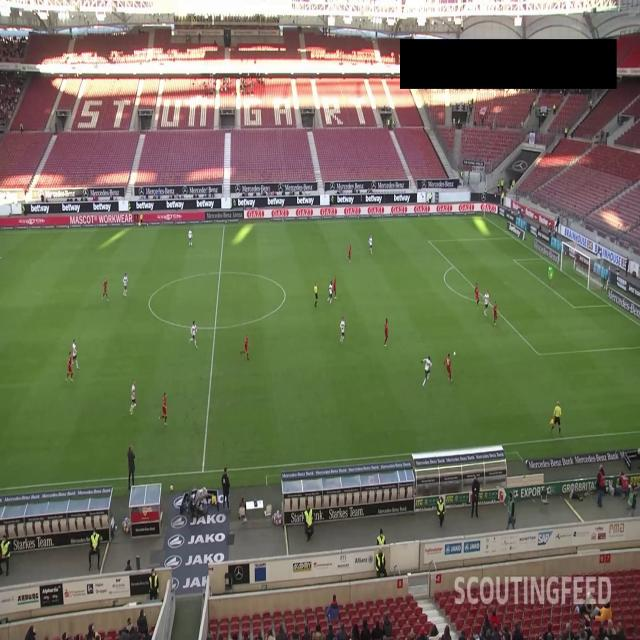Ball: (453, 350, 456, 355)
GoalKeeper: (548, 263, 554, 285)
Referee: (550, 401, 562, 437), (138, 210, 145, 230), (314, 282, 319, 308)
TEAM 1: (442, 354, 453, 384), (159, 392, 168, 426), (240, 332, 250, 362), (66, 351, 74, 383), (101, 276, 109, 302), (384, 318, 390, 348), (346, 241, 352, 263), (475, 282, 480, 308), (332, 276, 337, 299), (493, 301, 497, 327)
TEAM 2: (420, 356, 433, 388), (70, 339, 80, 372), (188, 320, 198, 350), (130, 379, 138, 415), (340, 316, 348, 344), (482, 289, 490, 317), (122, 271, 129, 298), (328, 280, 334, 304), (368, 234, 374, 256), (188, 227, 194, 248)
